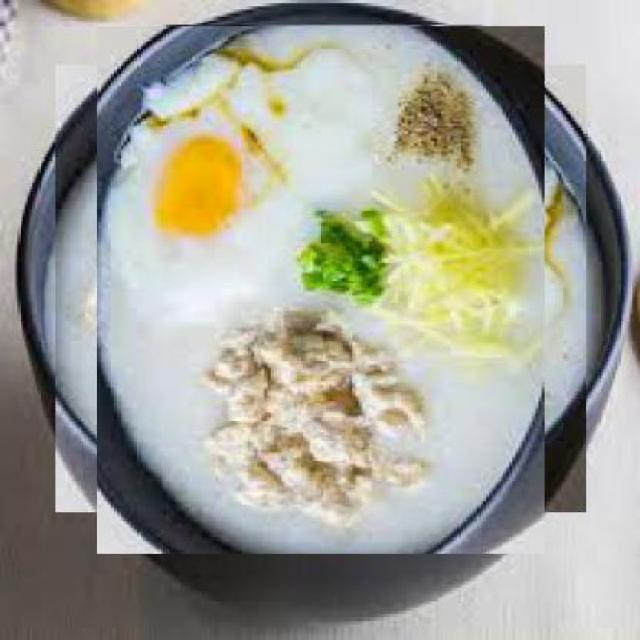Jok: (76, 43, 567, 534)
